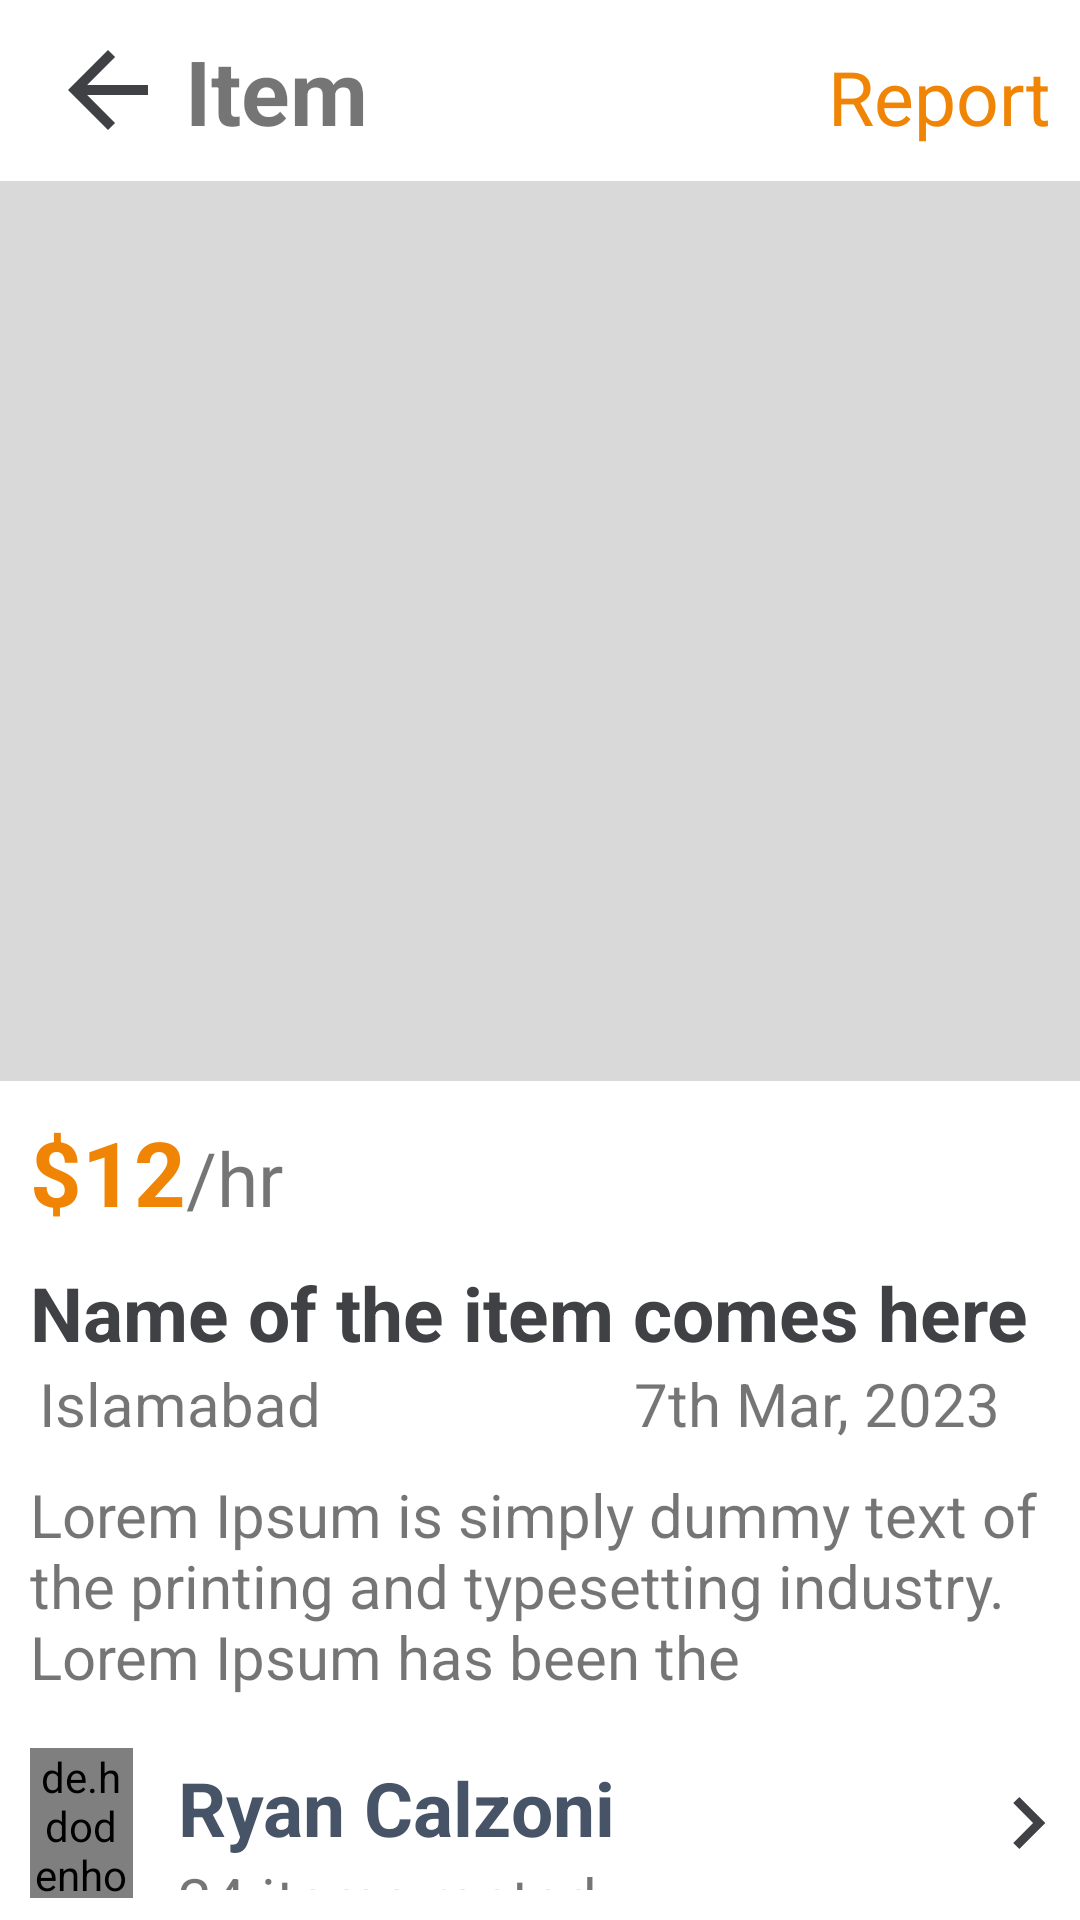

Where icons sit on this 1080px x 1920px app screen, as (x1, y1, x2, y2):
arrow back: (68, 50, 148, 130)
keyboard arrow right: (1013, 1797, 1045, 1849)
